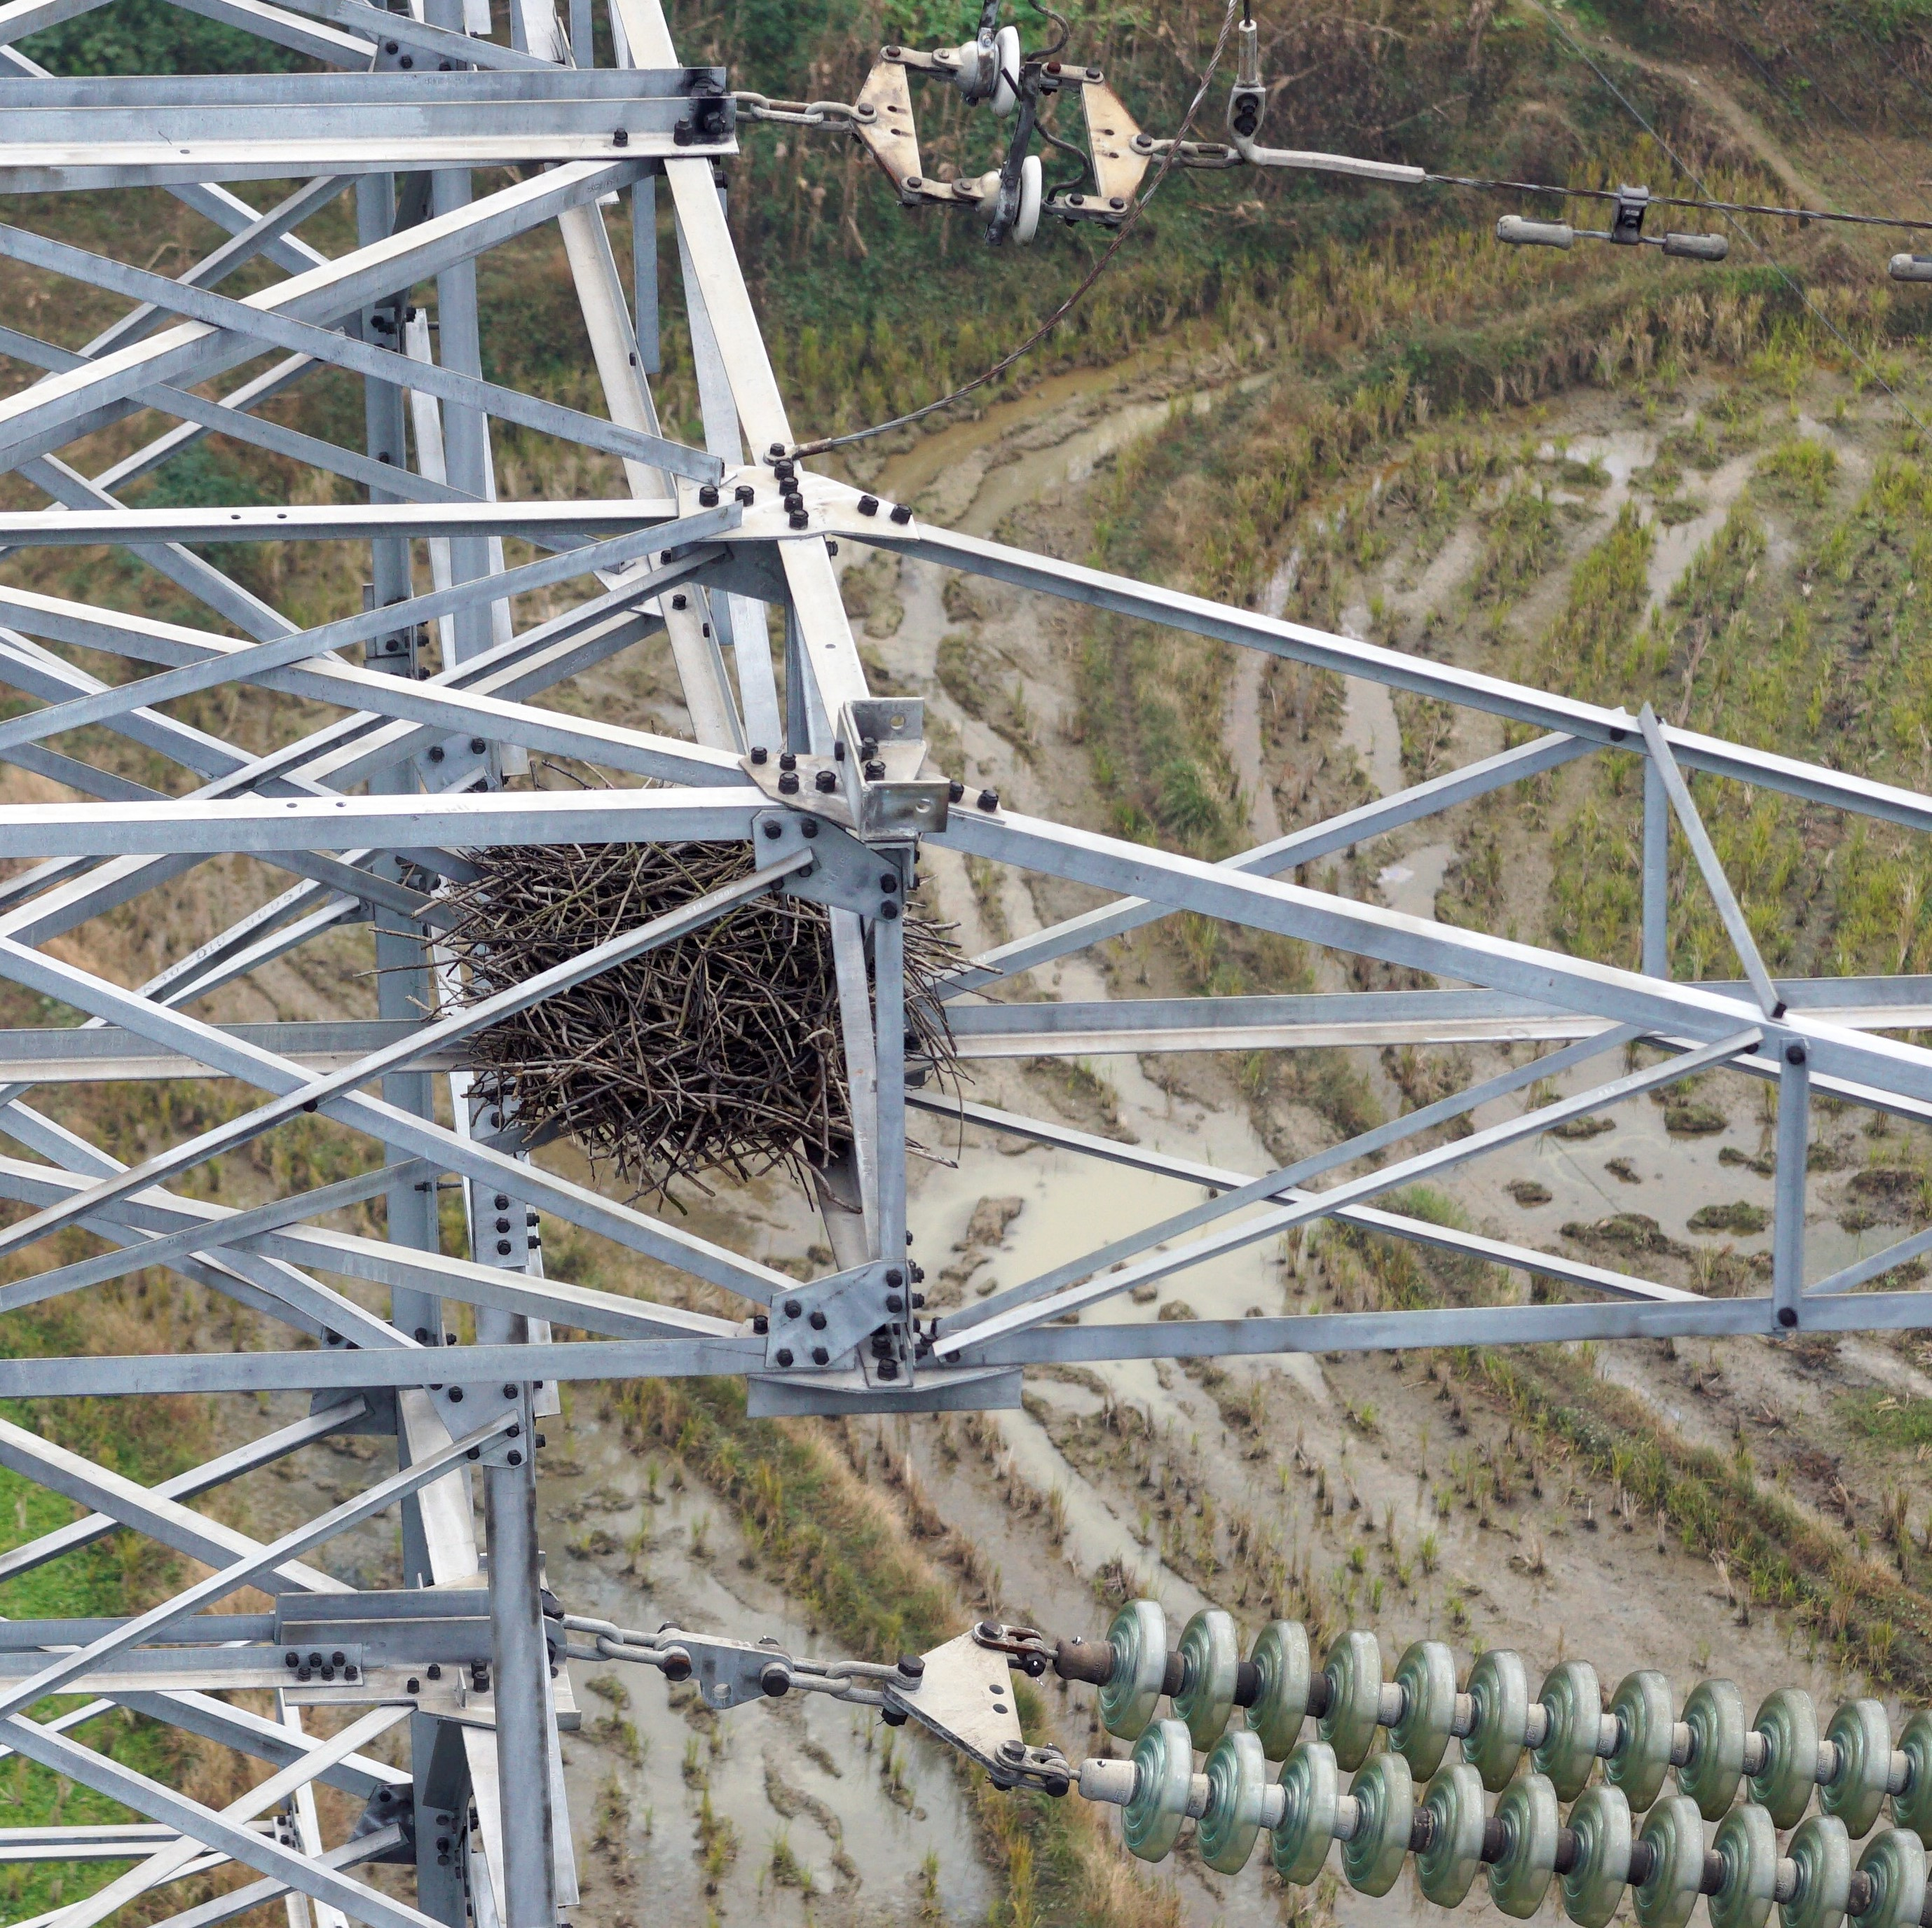niaowo: (406, 764, 989, 1153)
